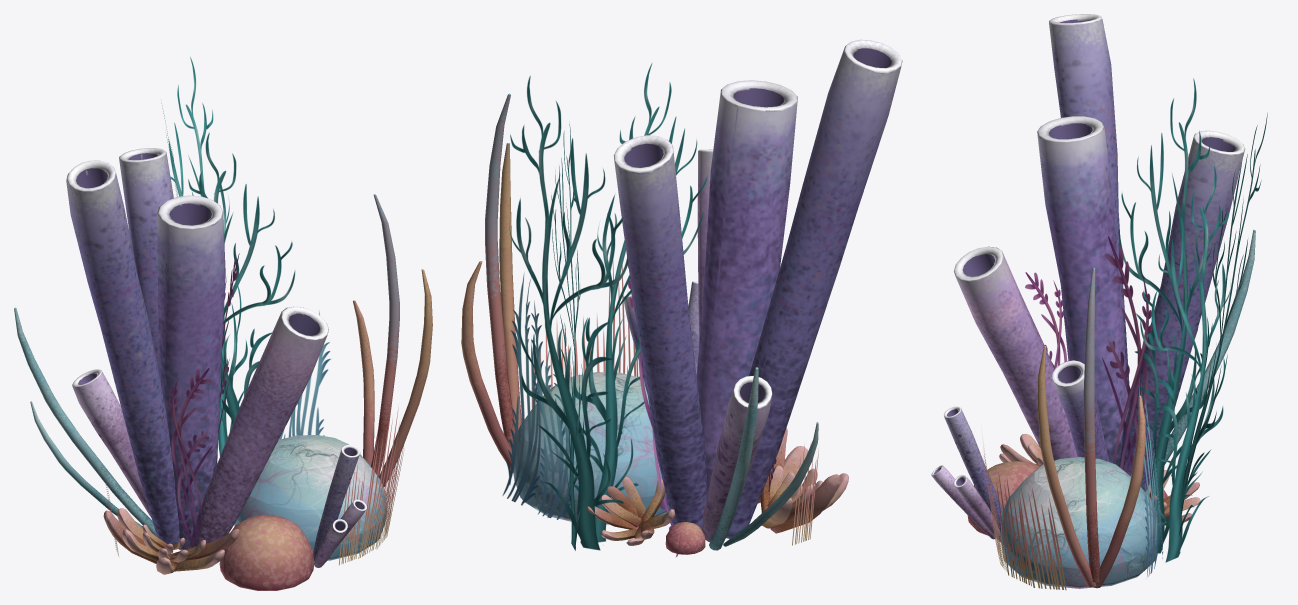
Rendered from coral-piece.glb.
3 renders of one model, left to right at view 1: azimuth 30°, elevation 25°; view 2: azimuth 150°, elevation 25°; view 3: azimuth 270°, elevation 25°, orthographic. The views are drawn at different scales.
Parts seen in each view (by area): view 1: CoralBody, CoralFoliageCards; view 2: CoralBody, CoralFoliageCards; view 3: CoralBody, CoralFoliageCards.
Boxes of the visible parts, left/top/right/bottom form: CoralBody: left=14, top=148, right=432, bottom=590; CoralFoliageCards: left=104, top=57, right=405, bottom=565; CoralBody: left=461, top=39, right=902, bottom=554; CoralFoliageCards: left=502, top=63, right=818, bottom=556; CoralBody: left=931, top=14, right=1255, bottom=588; CoralFoliageCards: left=983, top=78, right=1267, bottom=590.
Size of the model in its own units: 3.09 by 4.06 by 2.64.
Materials: 2 (2 with a texture image).
